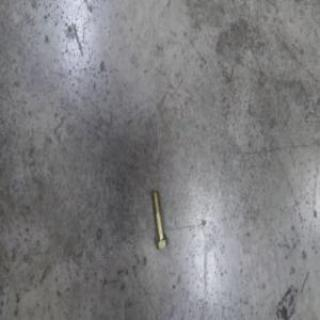Bolttrack_idkeyframe: (151, 190, 169, 250)
